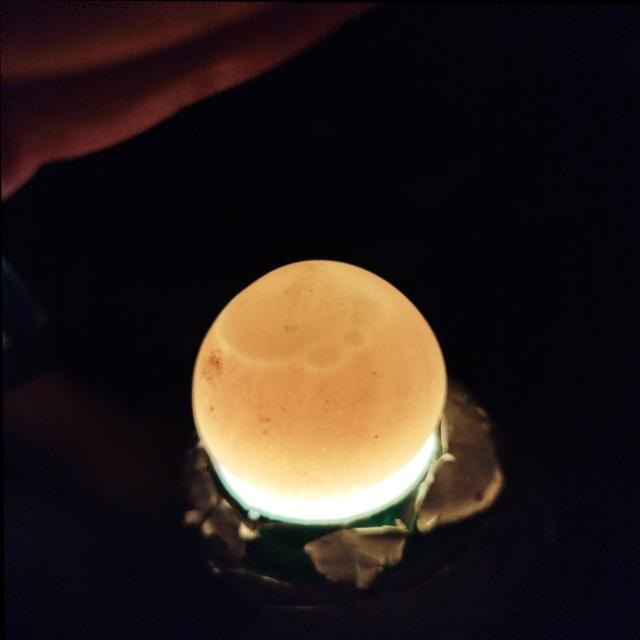Camara de Ar: (217, 260, 387, 371)
